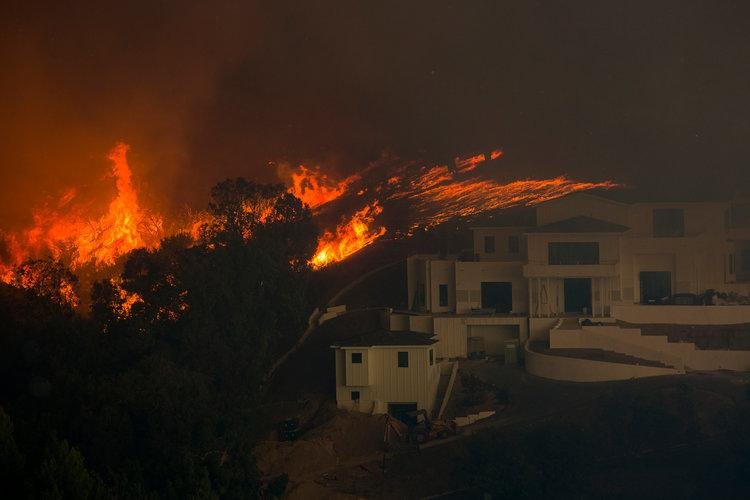Fire: (2, 109, 576, 329)
